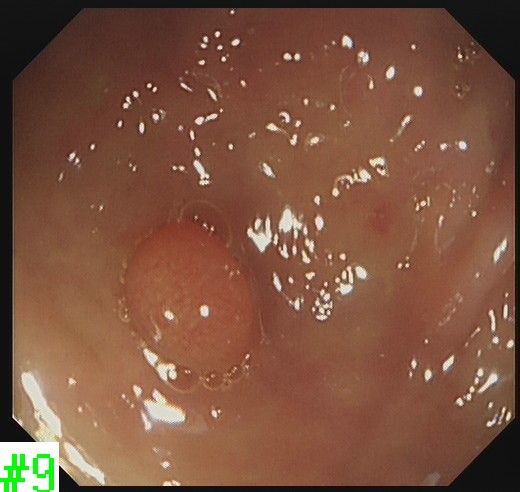others: (120, 217, 258, 376)
